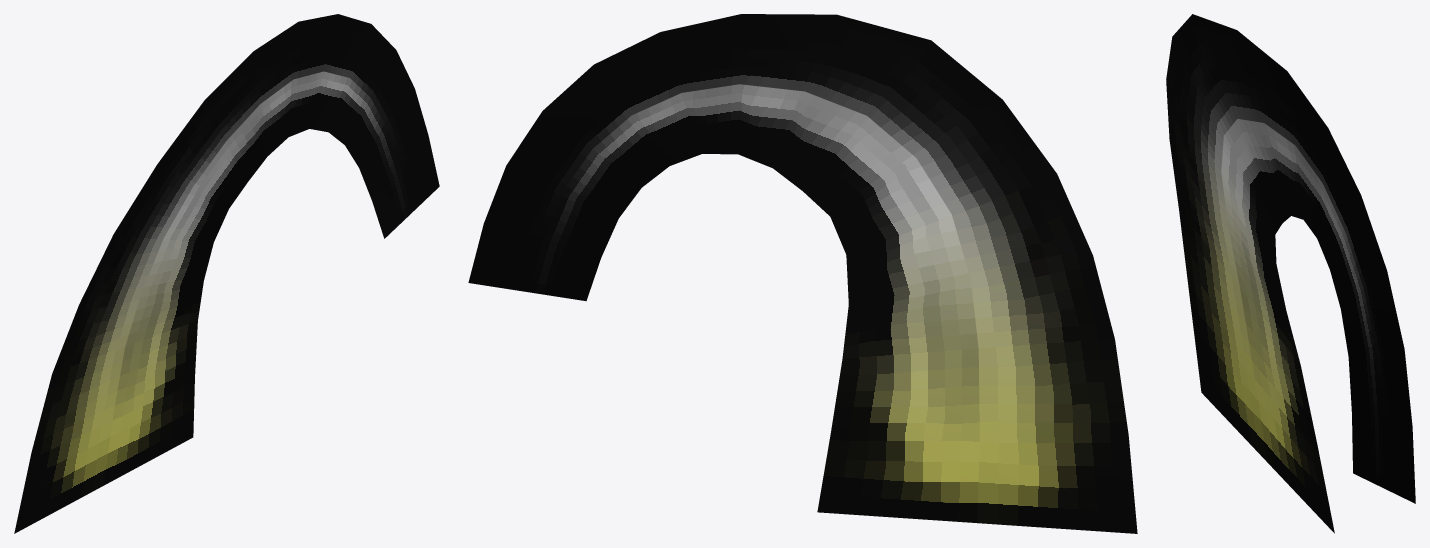
File: effect_xiahoudun_self_1_1.FBX
3 renders of one model, left to right at view 1: azimuth 30°, elevation 25°; view 2: azimuth 150°, elevation 25°; view 3: azimuth 270°, elevation 25°, orthographic. The views are drawn at different scales.
Parts seen in each view (by area): view 1: effect_xiahoudun_self_1_1; view 2: effect_xiahoudun_self_1_1; view 3: effect_xiahoudun_self_1_1.
Part boxes in pixels (x1,y1,x2,y2): effect_xiahoudun_self_1_1: (14,14,439,533); effect_xiahoudun_self_1_1: (468,14,1137,533); effect_xiahoudun_self_1_1: (1166,14,1415,533).
Bounding box in the file's own units: 329 × 253 × 110.
1 material, 1 textured.
